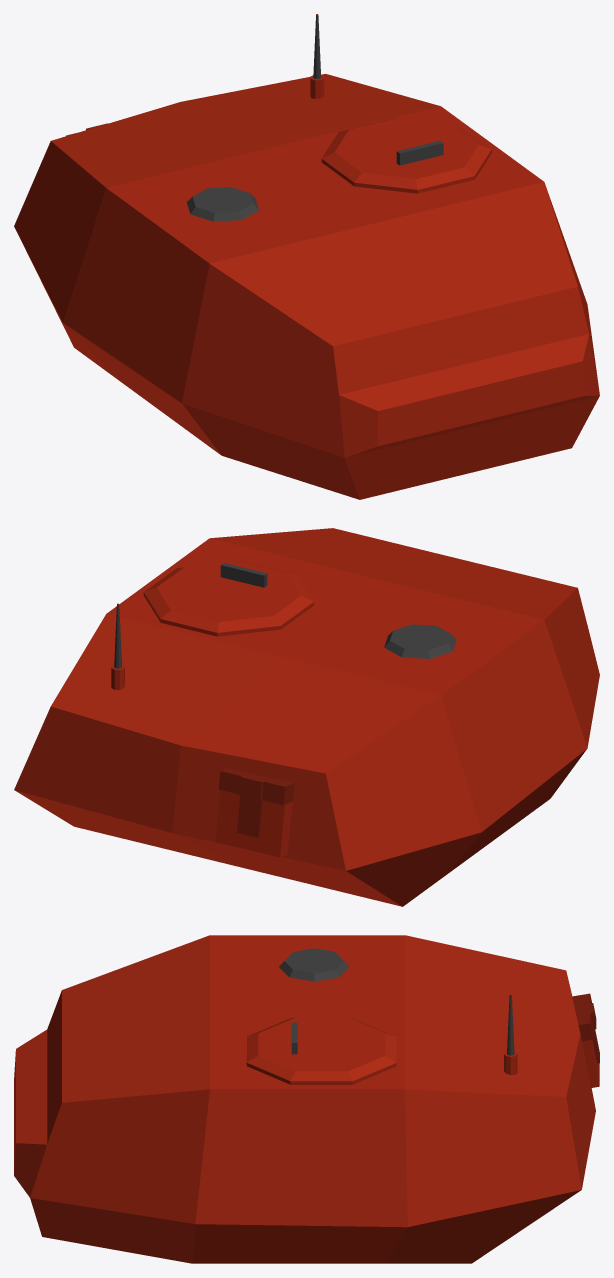
Rendered from tankTurret.fbx.
3 renders of one model, top to bottom at view 1: azimuth 30°, elevation 25°; view 2: azimuth 150°, elevation 25°; view 3: azimuth 270°, elevation 25°, orthographic. The views are drawn at different scales.
Parts seen in each view (by area): view 1: Cube.003; view 2: Cube.003; view 3: Cube.003.
Boxes of the visible parts, left/top/right/bottom form: Cube.003: left=14, top=14, right=599, bottom=499; Cube.003: left=14, top=528, right=599, bottom=906; Cube.003: left=14, top=935, right=599, bottom=1263.
Bounding box in the file's own units: 5.63 × 3.26 × 7.23.
